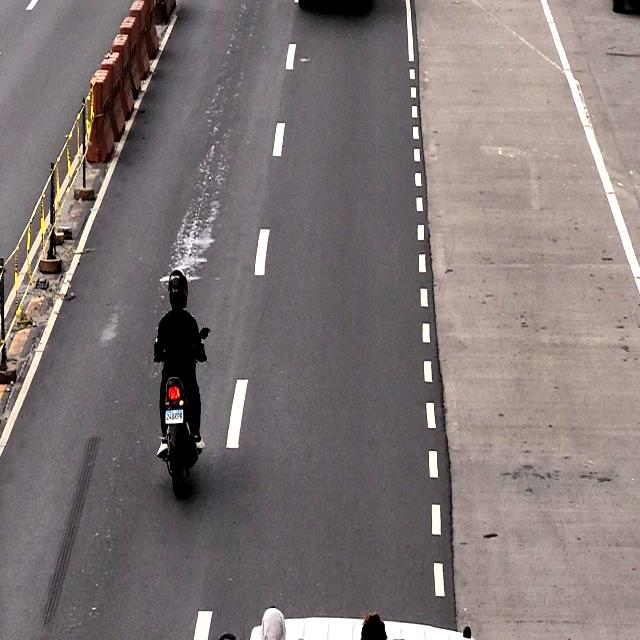License-Plate: (163, 408, 185, 423)
Motorcycle: (150, 267, 209, 496)
